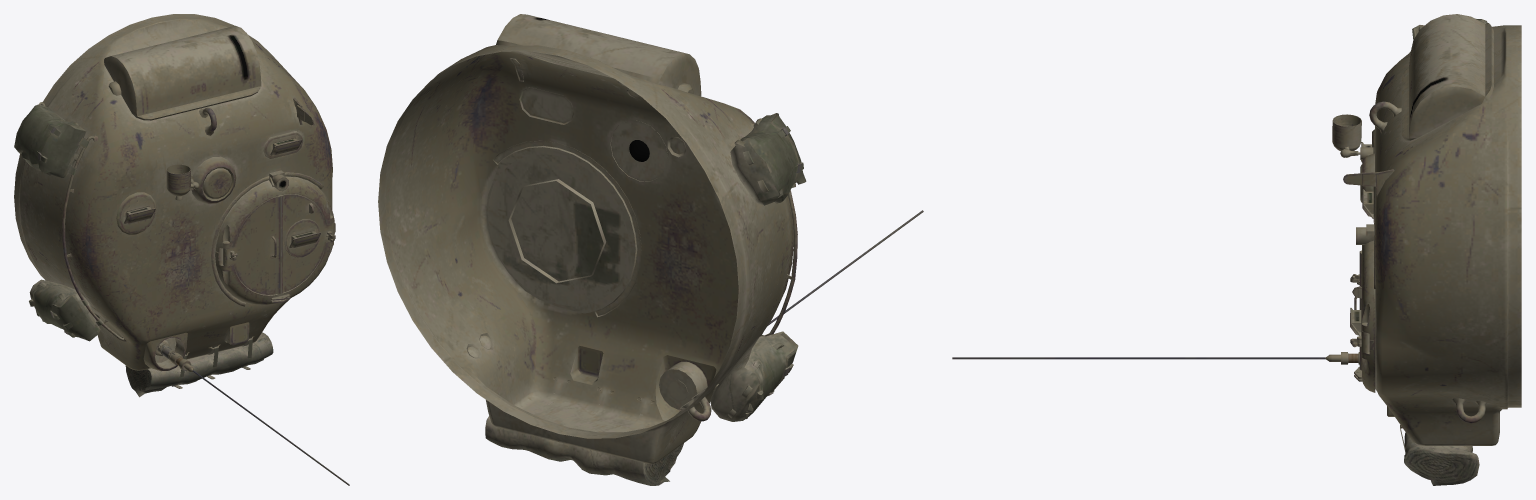
Rendered from Turret_01.glb.
The picture shows the model from 3 angles, left to right: view 1: azimuth 30°, elevation 25°; view 2: azimuth 150°, elevation 25°; view 3: azimuth 270°, elevation 25°; orthographic projection. The views are drawn at different scales.
Parts seen in each view (by area): view 1: set_0_group_0; view 2: set_0_group_0; view 3: set_0_group_0.
Boxes of the visible parts, x1,y1,x2,y2 form: set_0_group_0: [14, 14, 349, 485]; set_0_group_0: [378, 14, 923, 485]; set_0_group_0: [952, 14, 1521, 485].
Bounding box in the file's own units: 2.2 × 2.45 × 3.1.
Materials: 1 (1 with a texture image).
